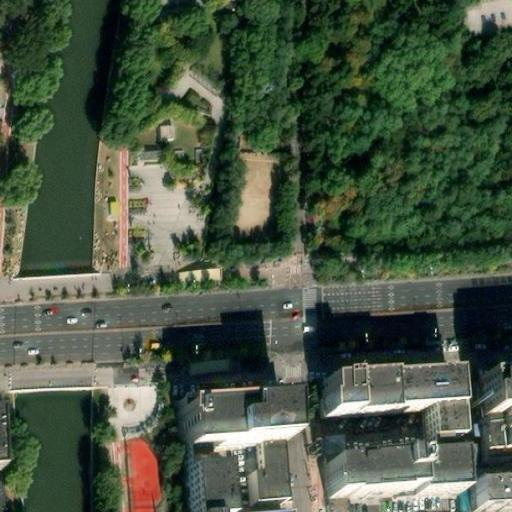building: (327, 452, 458, 498), (322, 373, 453, 413), (178, 390, 283, 437), (92, 136, 128, 271), (480, 390, 512, 457), (253, 469, 293, 510), (469, 481, 512, 509), (421, 407, 454, 438), (195, 489, 234, 512), (0, 396, 12, 461)
